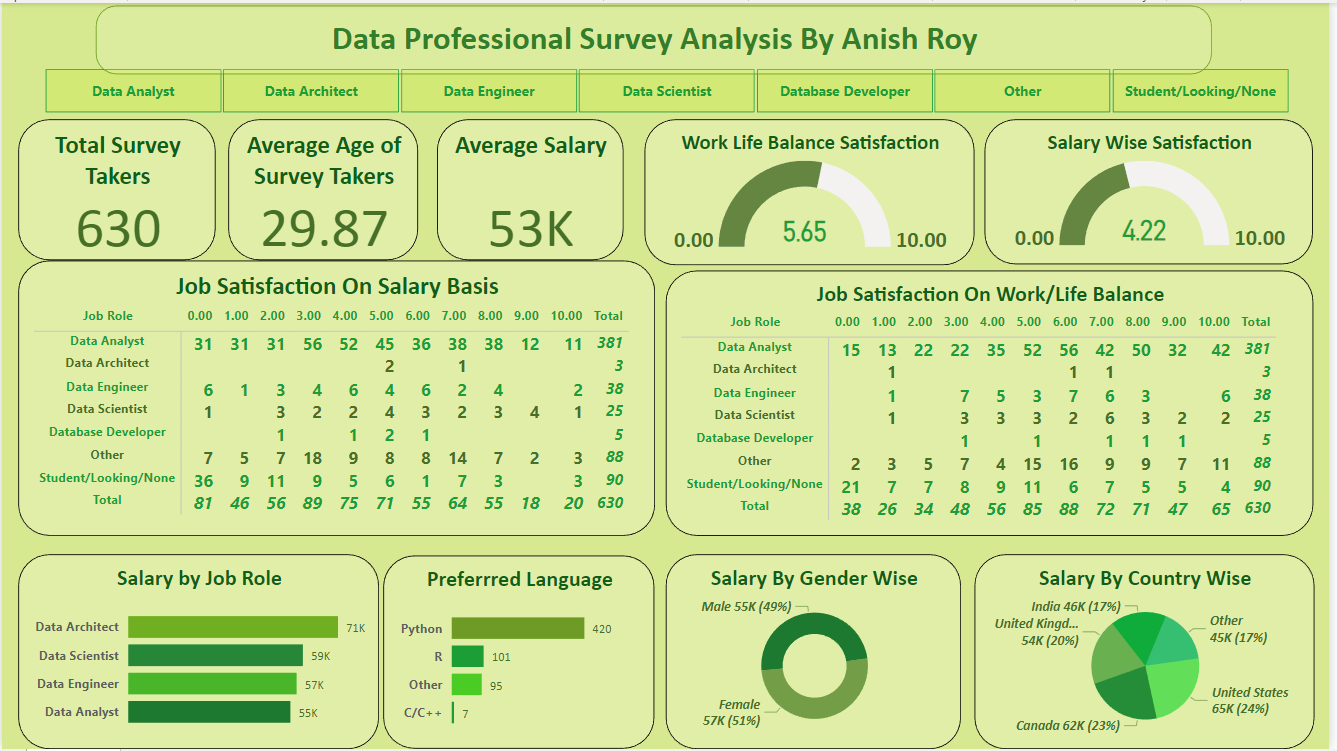

This screenshot's page, from the dashboard's own definition file:
{"tool":"powerbi","page":{"name":"Page 1","canvas":[1280,720],"ordinal":0},"visuals":[{"type":"card","title":"Total Survey Takers","fields":{"Values":["CountNonNull(Data Professional Survey.Unique ID)"]},"box":[15.7,112.2,190.6,136.3],"z":0},{"type":"card","title":"Average Age of Survey Takers","fields":{"Values":["Avg(Data Professional Survey.Age)"]},"box":[218.3,112.2,183.3,136.3],"z":1000},{"type":"card","title":"Average Salary ","fields":{"Values":["Avg(Data Professional Survey.Average Salary)"]},"box":[419.7,112.2,179.7,136.3],"z":2000},{"type":"pivotTable","title":"Job Satisfaction On Salary Basis","fields":{"Rows":["Data Professional Survey.Job Role"],"Columns":["Data Professional Survey.Satisfaction Salary"],"Values":["Count(Data Professional Survey.Unique ID)"]},"box":[15.1,248.2,614.2,266],"z":3000},{"type":"pivotTable","title":"Job Satisfaction On Work/Life Balance","fields":{"Rows":["Data Professional Survey.Job Role"],"Values":["Count(Data Professional Survey.Unique ID)"],"Columns":["Data Professional Survey.Satisfaction Work/Life Balance"]},"box":[640.3,257.8,625.2,256.4],"z":4000},{"type":"barChart","title":"Salary by Job Role","fields":{"Category":["Data Professional Survey.Job Role"],"Y":["Avg(Data Professional Survey.Average Salary)"]},"box":[15.1,532,348.2,187.8],"z":5000},{"type":"barChart","title":"Preferrred Language","fields":{"Category":["Data Professional Survey.Favorite Programming Language.1"],"Y":["CountNonNull(Data Professional Survey.Unique ID)"]},"box":[367.4,533.3,261.9,186.5],"z":6000},{"type":"gauge","title":"Work Life Balance Satisfaction","fields":{"Y":["Avg(Data Professional Survey.Satisfaction Work/Life Balance)"],"MinValue":["Min(Data Professional Survey.Satisfaction Work/Life Balance)1"],"MaxValue":["Max(Data Professional Survey.Satisfaction Work/Life Balance)2"]},"box":[619.9,112.2,318.4,141.1],"z":7000},{"type":"gauge","title":"Salary Wise Satisfaction","fields":{"Y":["Avg(Data Professional Survey.Satisfaction Salary)"],"MinValue":["Min(Data Professional Survey.Satisfaction Salary)1"],"MaxValue":["Max(Data Professional Survey.Satisfaction Salary)2"]},"box":[947.9,112.2,317.2,139.9],"z":8000},{"type":"donutChart","title":"Salary By Gender Wise","fields":{"Y":["Avg(Data Professional Survey.Average Salary)"],"Category":["Data Professional Survey.Gender"]},"box":[640.3,532,285.2,187.8],"z":9000},{"type":"pieChart","title":"Salary By Country Wise","fields":{"Y":["Avg(Data Professional Survey.Average Salary)"],"Category":["Data Professional Survey.Country"]},"box":[937.8,532,327.7,187.8],"z":9001},{"type":"slicer","fields":{"Values":["Data Professional Survey.Job Role"]},"box":[15.7,56.7,1249.4,55.5],"z":9002},{"type":"textbox","box":[90.5,2.4,1077,66.3],"z":9003}]}

Visuals, with their boxes in screenshot pixels (x1, y1, x2, y2), scaled from the page's 1280x720 canvas onto the 1337x751 screenshot:
"Total Survey Takers" card: bbox(16, 117, 215, 259)
"Average Age of Survey Takers" card: bbox(228, 117, 419, 259)
"Average Salary " card: bbox(438, 117, 626, 259)
"Job Satisfaction On Salary Basis" pivotTable: bbox(16, 259, 657, 536)
"Job Satisfaction On Work/Life Balance" pivotTable: bbox(669, 269, 1322, 536)
"Salary by Job Role" barChart: bbox(16, 555, 379, 750)
"Preferrred Language" barChart: bbox(384, 556, 657, 750)
"Work Life Balance Satisfaction" gauge: bbox(648, 117, 980, 264)
"Salary Wise Satisfaction" gauge: bbox(990, 117, 1321, 263)
"Salary By Gender Wise" donutChart: bbox(669, 555, 967, 750)
"Salary By Country Wise" pieChart: bbox(980, 555, 1322, 750)
slicer - Data Professional Survey.Job Role: bbox(16, 59, 1321, 117)
textbox: bbox(95, 3, 1219, 72)
